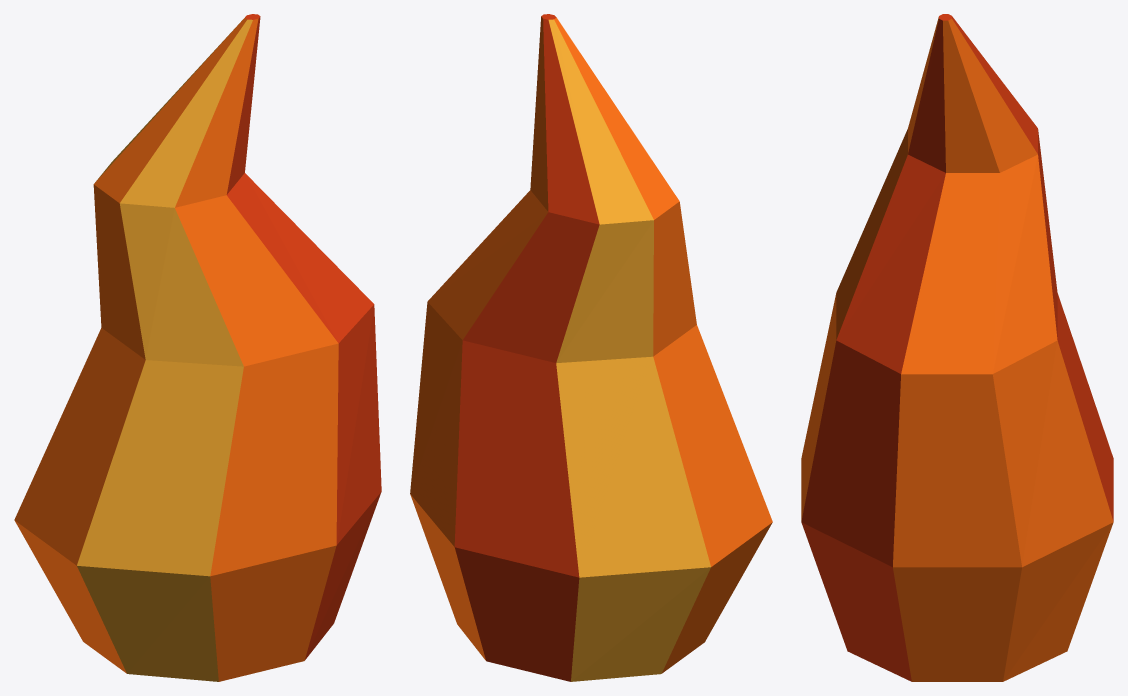
Rendered from flame.obj.
3 renders of one model, left to right at view 1: azimuth 30°, elevation 25°; view 2: azimuth 150°, elevation 25°; view 3: azimuth 270°, elevation 25°, orthographic. The views are drawn at different scales.
Visible parts, largest first — view 1: Flame; view 2: Flame; view 3: Flame.
Boxes of the visible parts, left/top/right/bottom form: Flame: left=14, top=14, right=381, bottom=681; Flame: left=410, top=14, right=772, bottom=681; Flame: left=801, top=14, right=1113, bottom=681.
Size of the model in its own units: 0.5174 by 0.99 by 0.4435.
